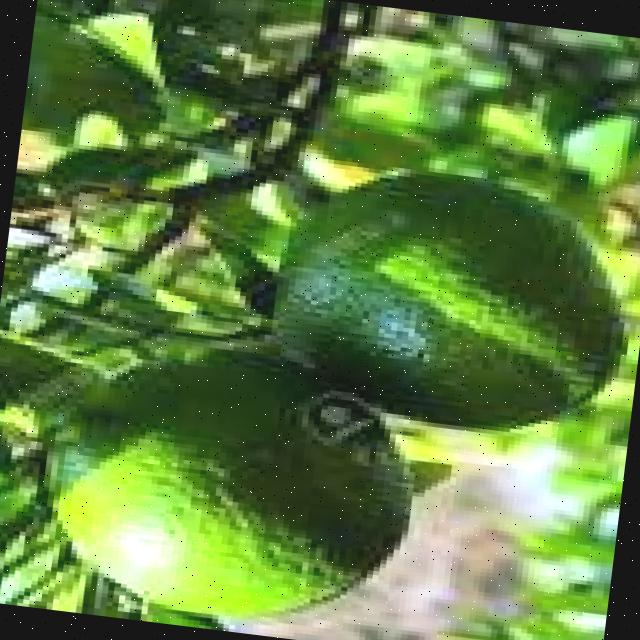Unripe: (21, 330, 421, 638), (257, 153, 637, 444)
